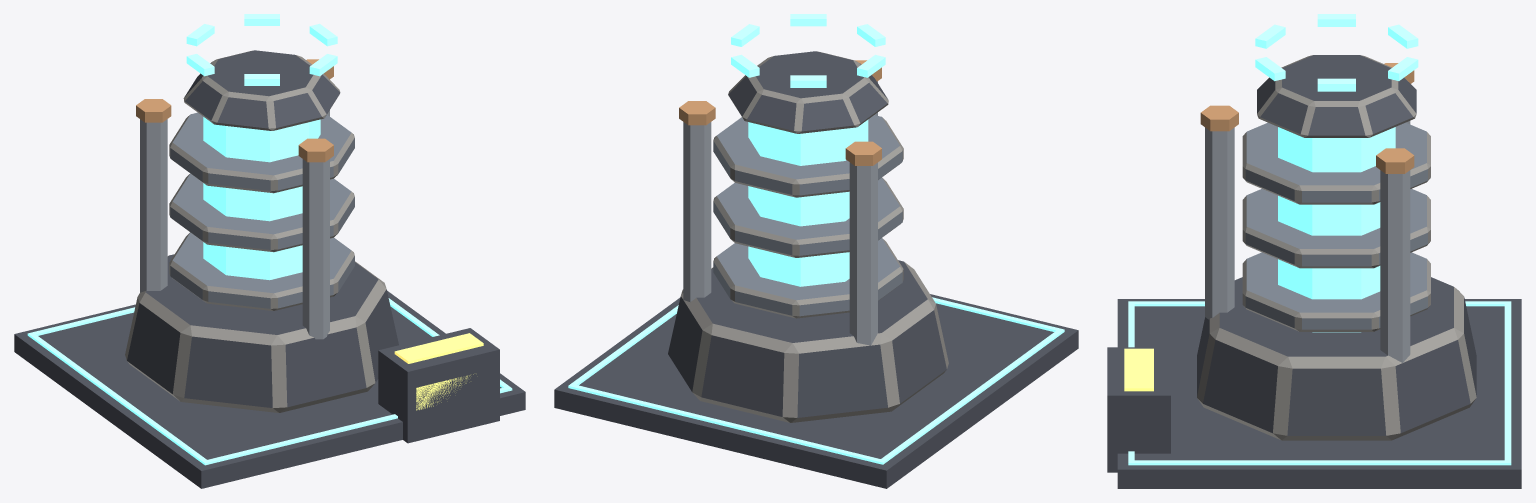
The model's file is gerador_ht.glb.
3 views of the same model, side by side, from view 1: azimuth 30°, elevation 25°; view 2: azimuth 150°, elevation 25°; view 3: azimuth 270°, elevation 25° (orthographic). The views are drawn at different scales.
Parts seen in each view (by area): view 1: gerador_ht_corpo, gerador_ht_antena; view 2: gerador_ht_corpo, gerador_ht_antena; view 3: gerador_ht_corpo, gerador_ht_antena.
Part boxes in pixels (<box>): gerador_ht_corpo: <box>14,50,525,488</box>; gerador_ht_antena: <box>186,14,337,85</box>; gerador_ht_corpo: <box>554,51,1078,488</box>; gerador_ht_antena: <box>731,14,885,87</box>; gerador_ht_corpo: <box>1107,55,1521,488</box>; gerador_ht_antena: <box>1255,14,1418,91</box>.
Size of the model in its own units: 1.9 by 1.84 by 1.95.
